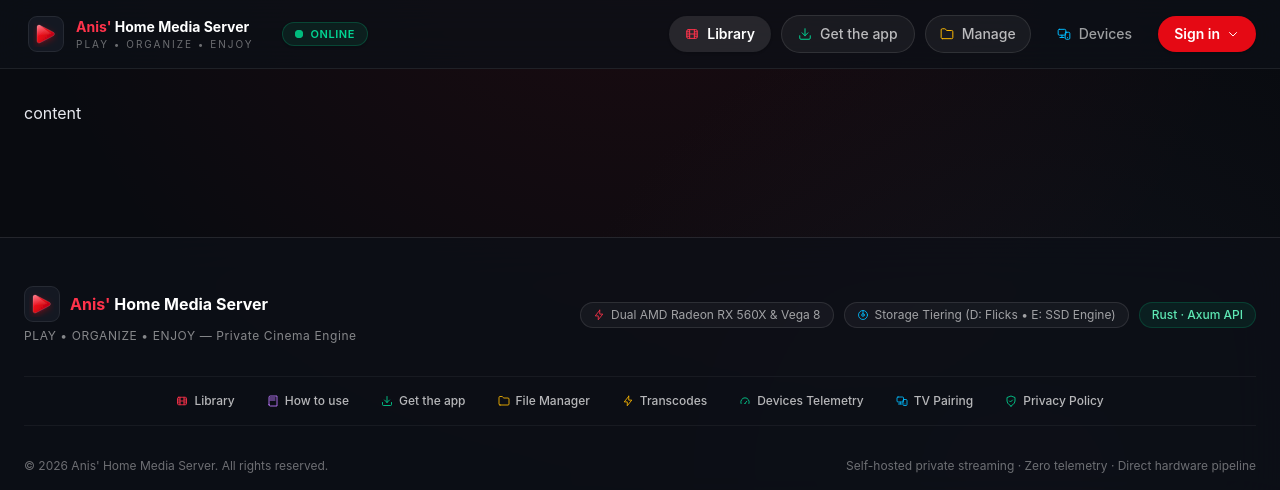
AppShell sign-in header › opens a chooser instead of starting Google sign-in immediately
Click the button "Sign in": (1207, 34) [1158, 16, 1256, 52]
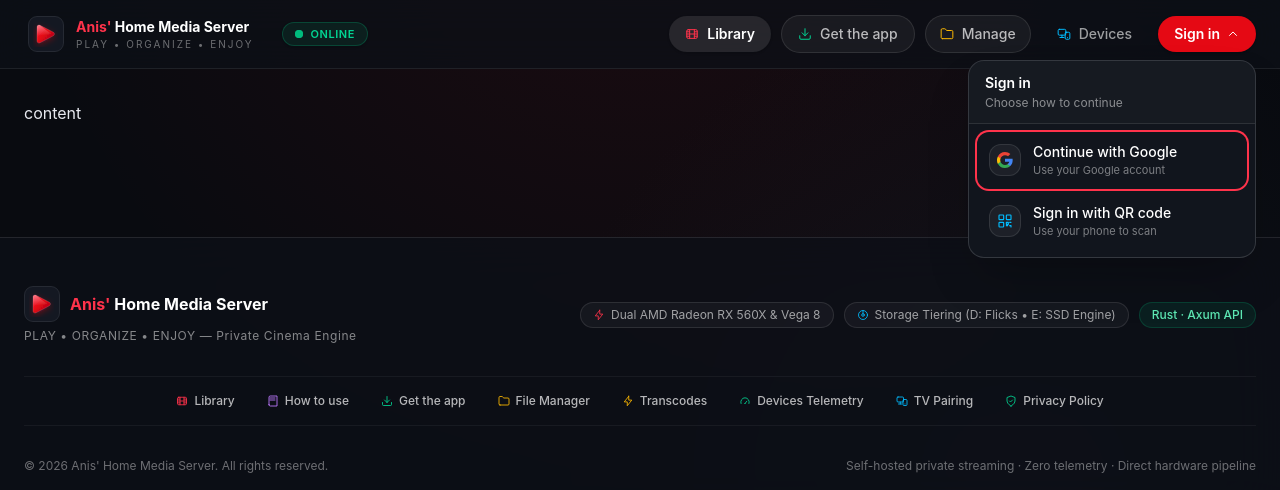
Expected: the menu is shown, [968, 60, 1256, 258]
Expected: the menu item "Continue with Google Use your Google account" is shown, [977, 132, 1247, 188]
Expected: the menu item "Sign in with QR code Use your phone to scan" is shown, [989, 204, 1171, 238]
